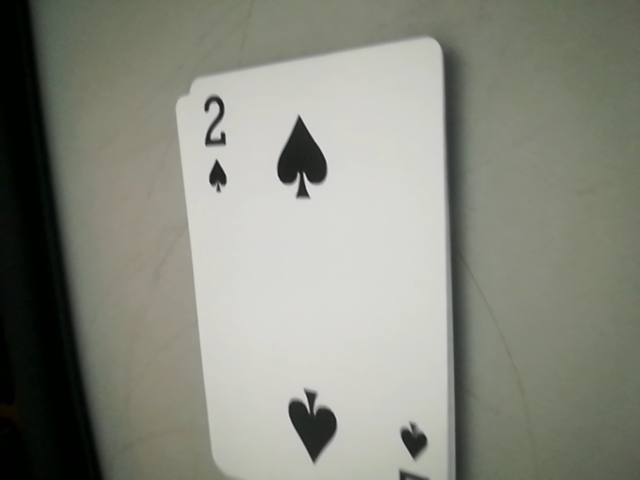ht 2: (190, 90, 247, 205)
